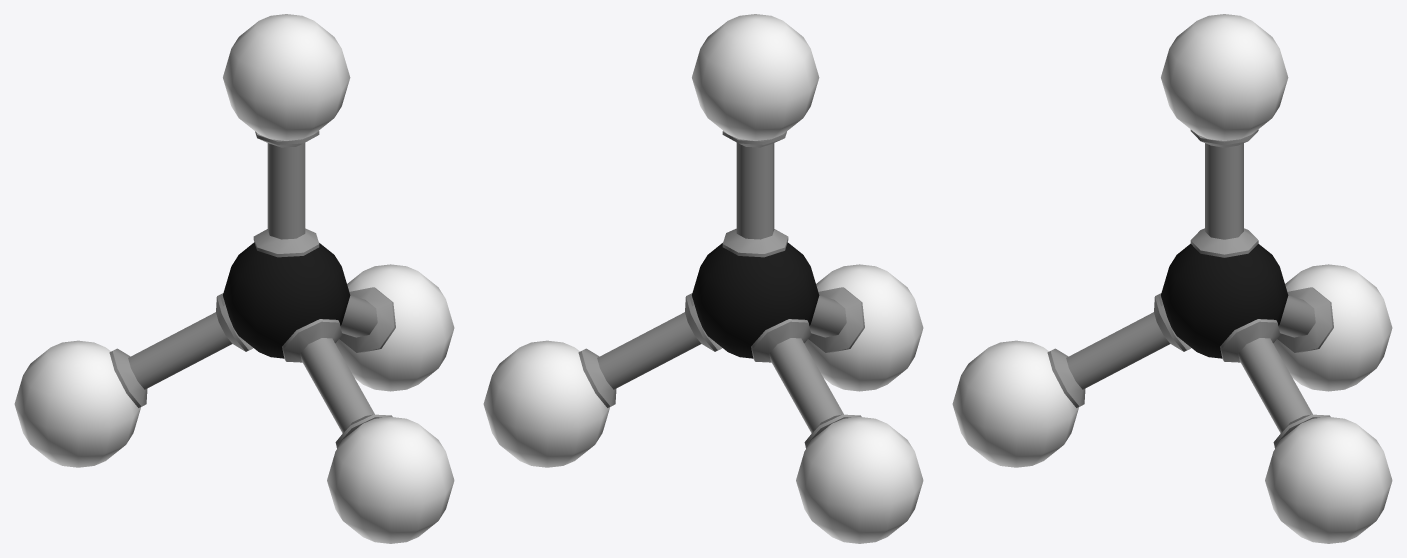
Rendered from SM_Methan_Molecule_LOD0.FBX.
3 renders of one model, left to right at view 1: azimuth 30°, elevation 25°; view 2: azimuth 150°, elevation 25°; view 3: azimuth 270°, elevation 25°, orthographic.
Visible parts, largest first — view 1: SM_Methan_Molecule; view 2: SM_Methan_Molecule; view 3: SM_Methan_Molecule.
Boxes of the visible parts, x1,y1,x2,y2 form: SM_Methan_Molecule: (14, 14, 454, 543); SM_Methan_Molecule: (483, 14, 923, 543); SM_Methan_Molecule: (952, 14, 1392, 543).
Size of the model in its own units: 0.1148 by 0.1147 by 0.1034.
1 material, 1 textured.
